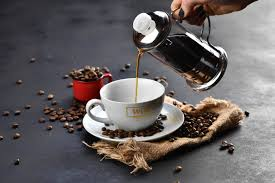kahve: (70, 65, 102, 99)
